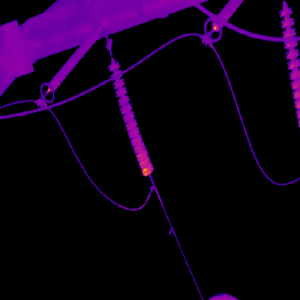insulator: (107, 56, 154, 176), (44, 23, 102, 88), (279, 4, 300, 125), (211, 0, 243, 29)
